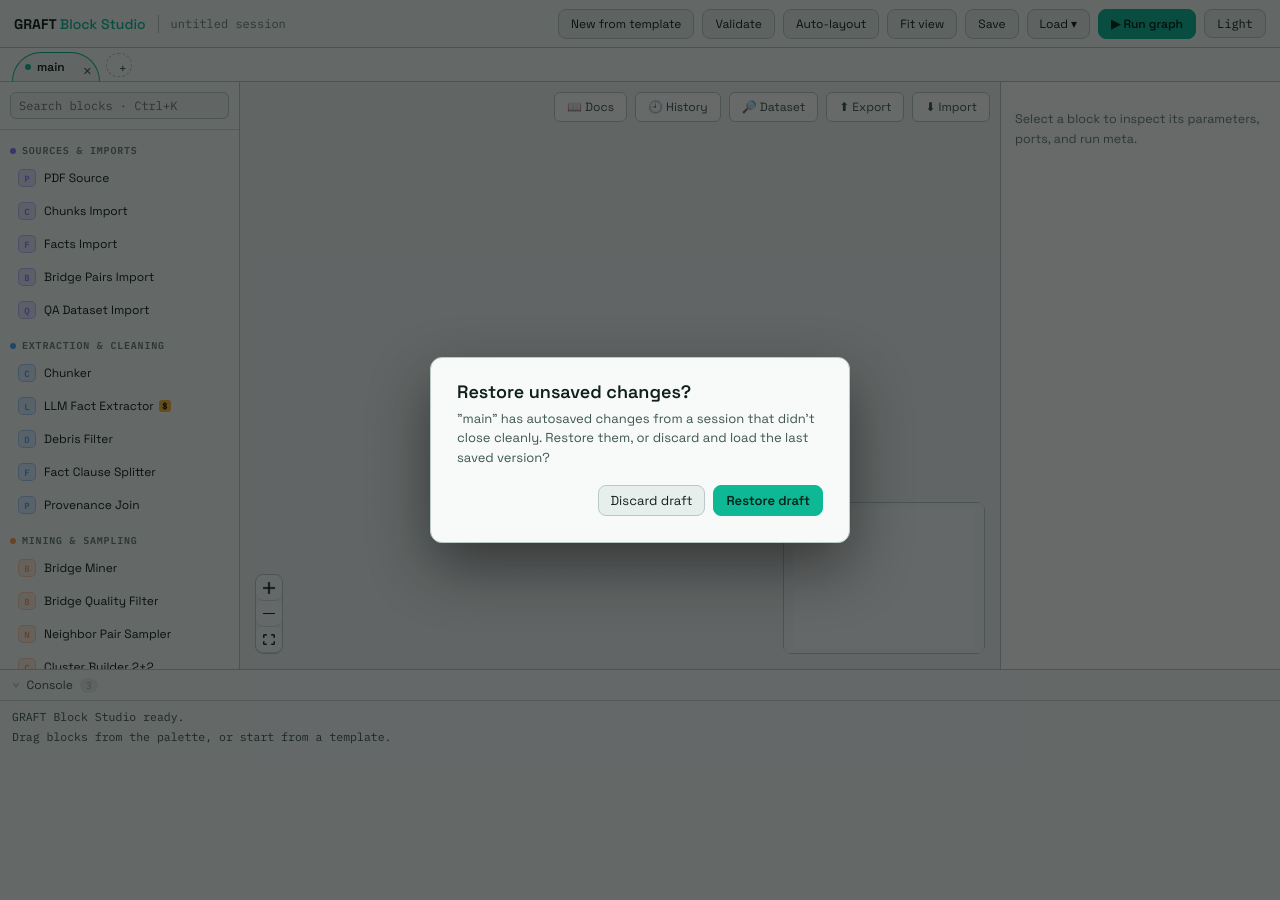
Scenario: StudioShell — B-M1 autosave + crash recovery › prompts to restore an autosaved draft on reopen; Restore applies it and keeps the tab dirty
The image size is (1280, 900).
Click the button "Restore draft": [768, 501] box [713, 485, 823, 516]
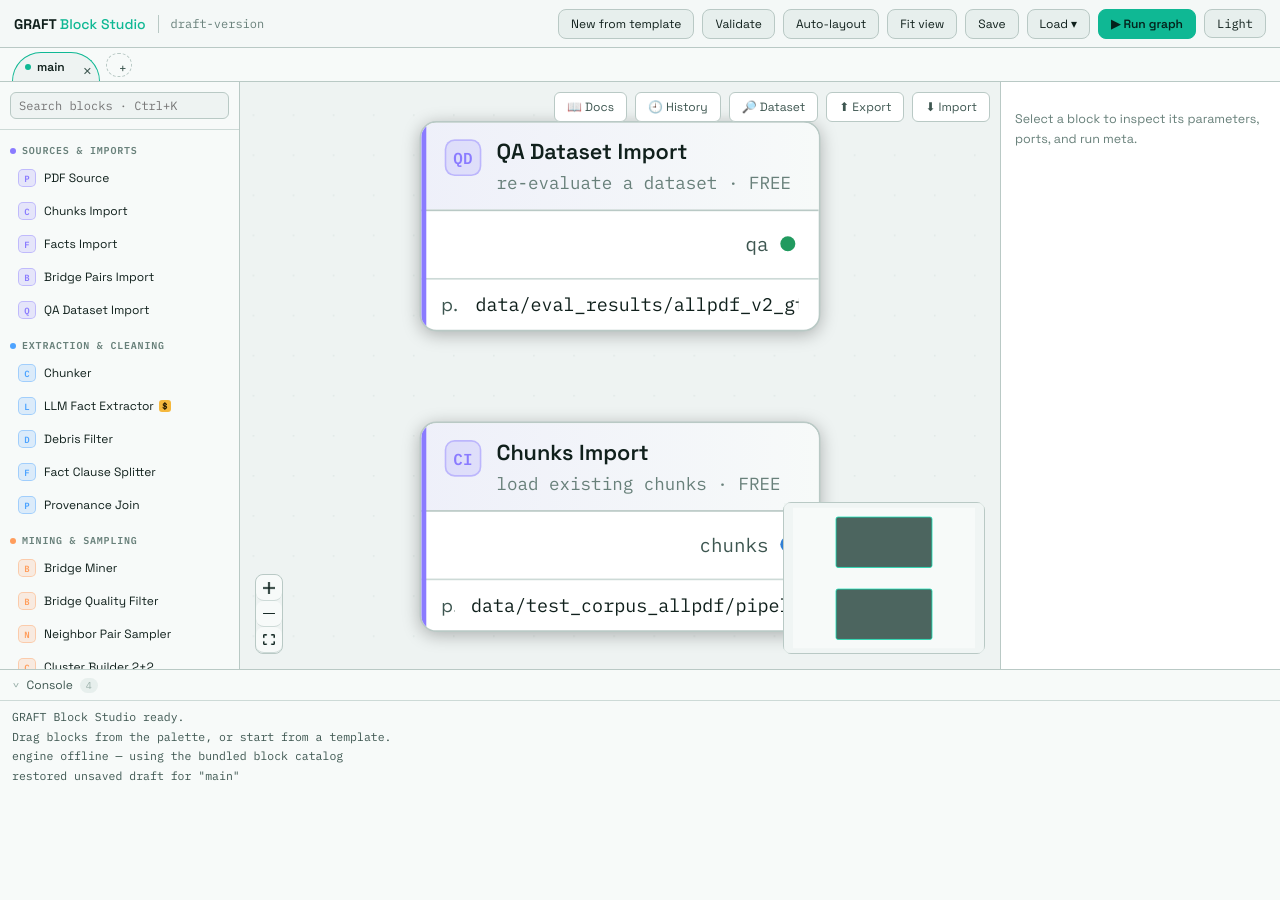
Result: the text "draft-version" is shown at [171, 16, 264, 31]
Result: the number of elements with class "block-node" is 2 at [420, 121, 820, 331]; [420, 422, 820, 632]
